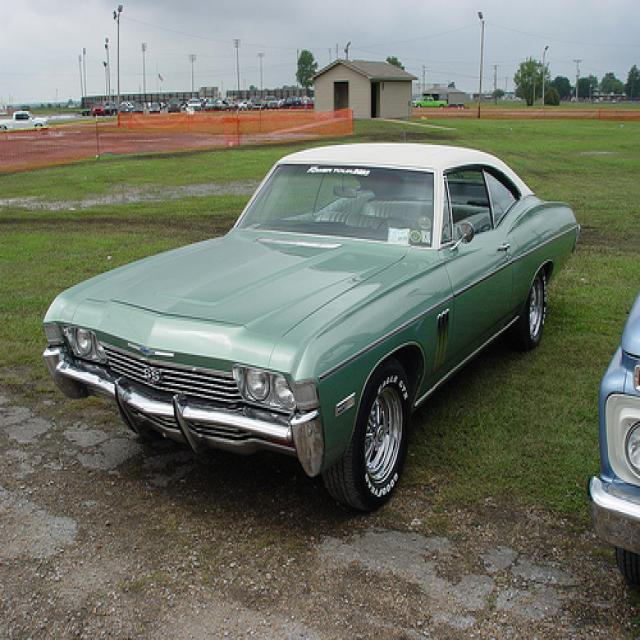car: (39, 136, 576, 511), (590, 291, 640, 593), (1, 110, 48, 135), (411, 95, 449, 112)
